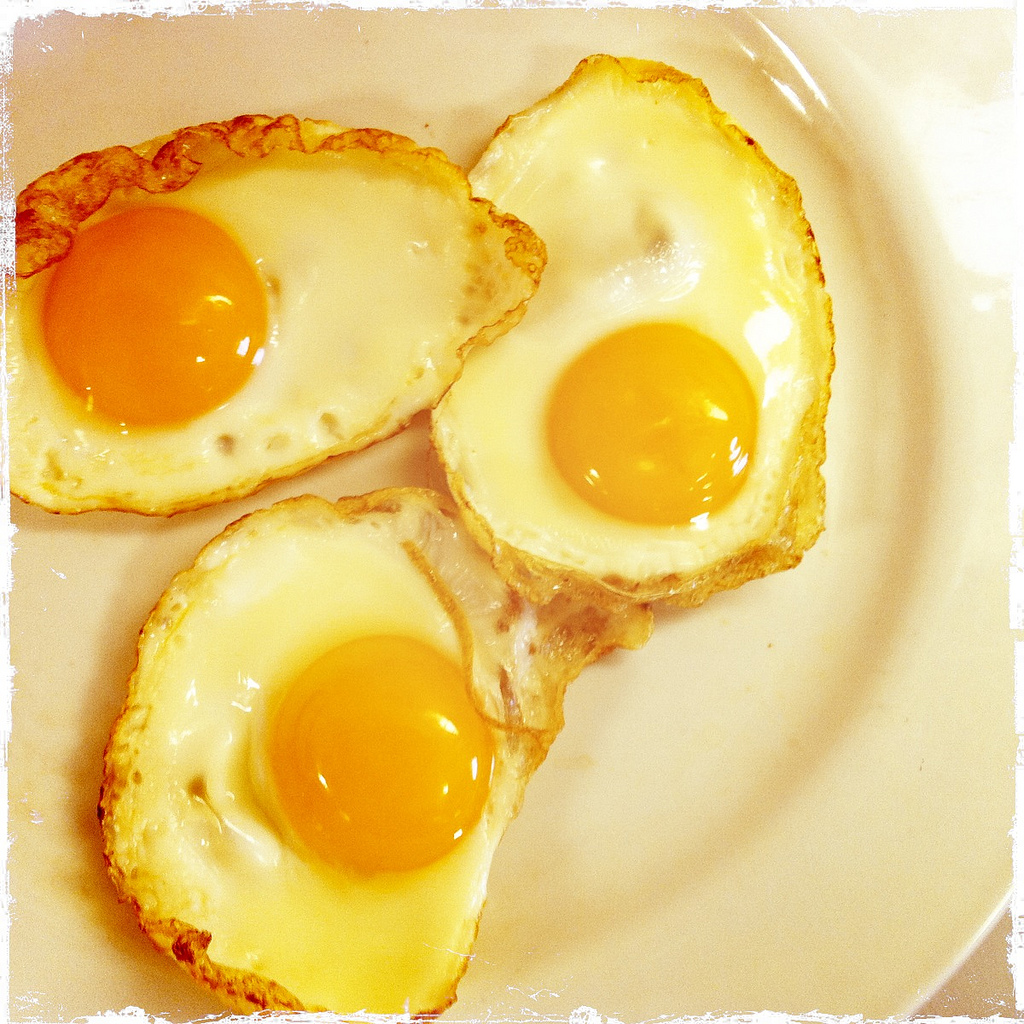fried egg: (87, 468, 650, 1015), (451, 51, 834, 645), (13, 132, 548, 534)
